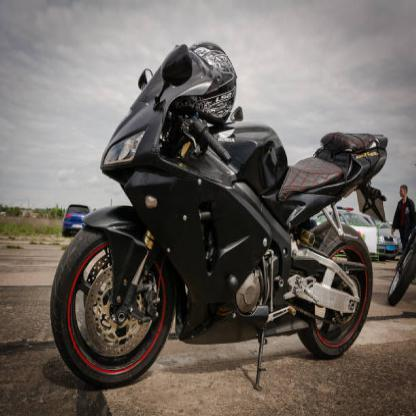Motorcycle: (47, 31, 390, 388)
